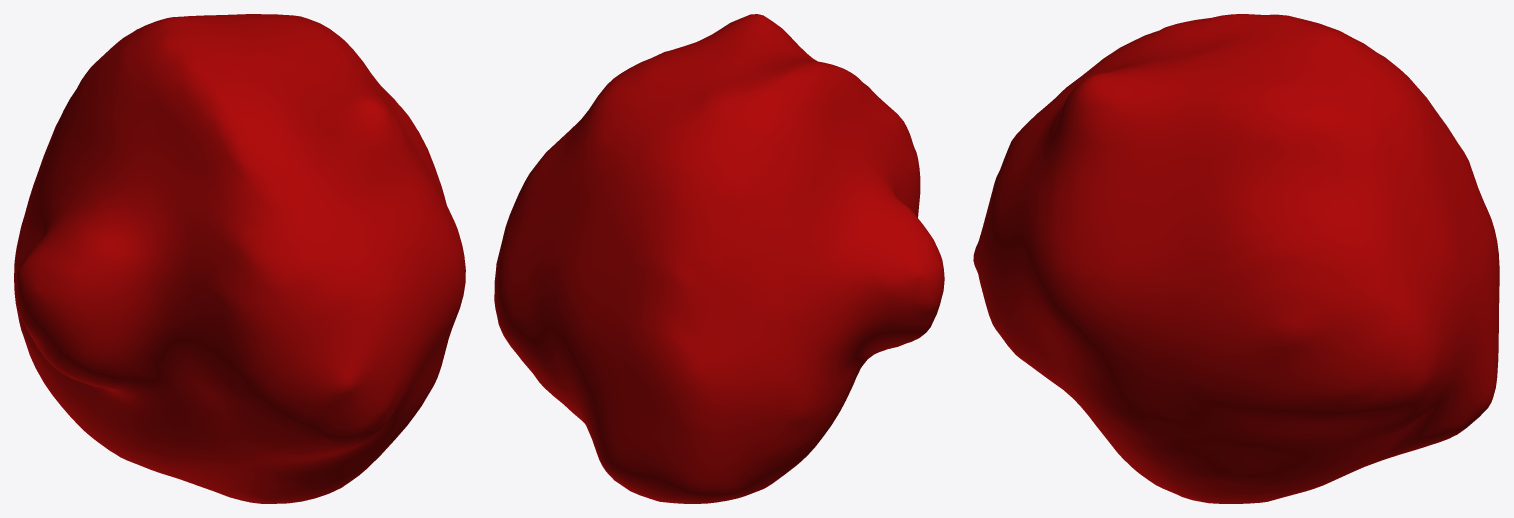
File: Anatomy_Tumor_In.obj
3 renders of one model, left to right at view 1: azimuth 30°, elevation 25°; view 2: azimuth 150°, elevation 25°; view 3: azimuth 270°, elevation 25°, orthographic. The views are drawn at different scales.
Parts seen in each view (by area): view 1: Segment_Tumor_In; view 2: Segment_Tumor_In; view 3: Segment_Tumor_In.
Boxes of the visible parts, x1,y1,x2,y2 form: Segment_Tumor_In: (14,14,465,503); Segment_Tumor_In: (494,14,944,503); Segment_Tumor_In: (973,14,1499,503).
Size of the model in its own units: 0.0332 by 0.0329 by 0.036.
